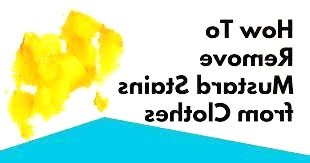mustard: (12, 20, 127, 79), (9, 71, 92, 107), (59, 7, 98, 52), (9, 100, 34, 142), (29, 99, 62, 120), (91, 88, 111, 112)
